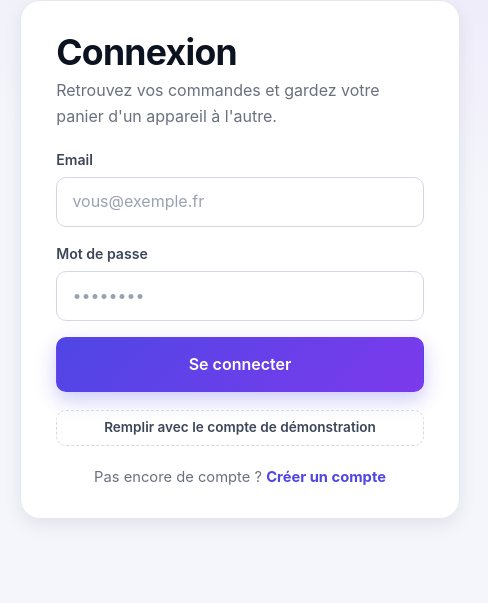
Scenario: LoginPage › valide la présence des champs (rendu conditionnel de l'erreur)
Click the button "Se connecter" at point(240, 365), box [56, 337, 424, 392]
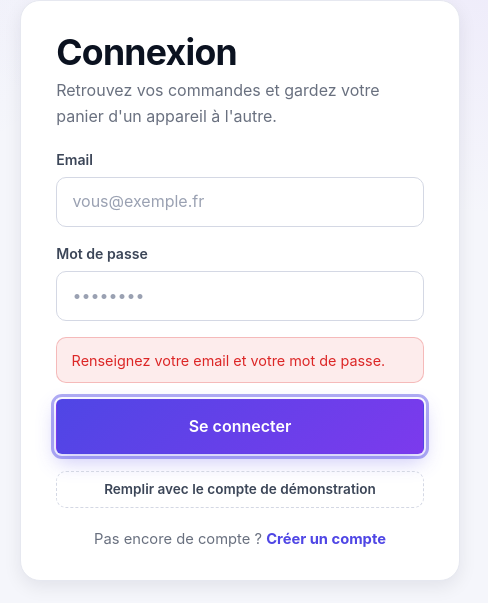
Check: the message reads "Renseignez votre email et votre mot de passe.", box [72, 352, 385, 369]
